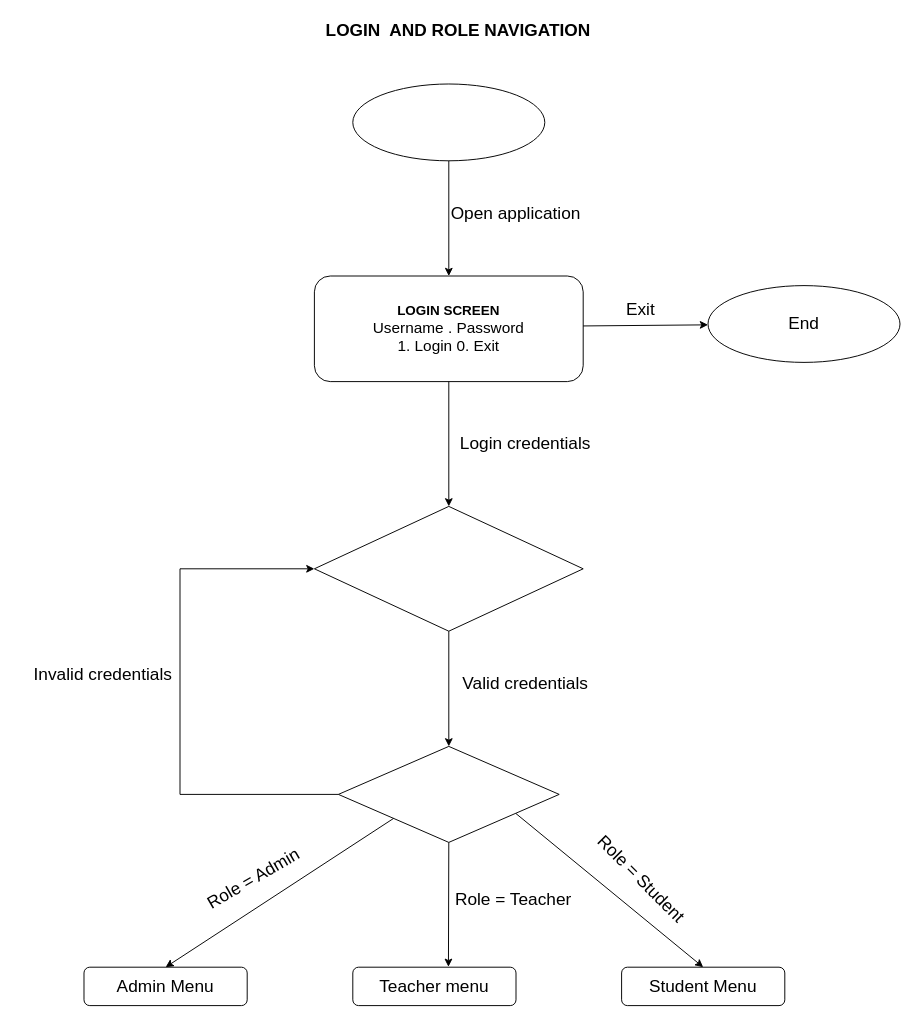
Some shapes in this 917 by 1022 pixel diagram are drawn without their labels. The shapes that lost their labels are listed below. From the top down, each one's centre as x and y in pixels, then its label:
At (448,122): "Start".
At (448,568): "Validate Credentials".
At (448,793): "Identify User Role".
